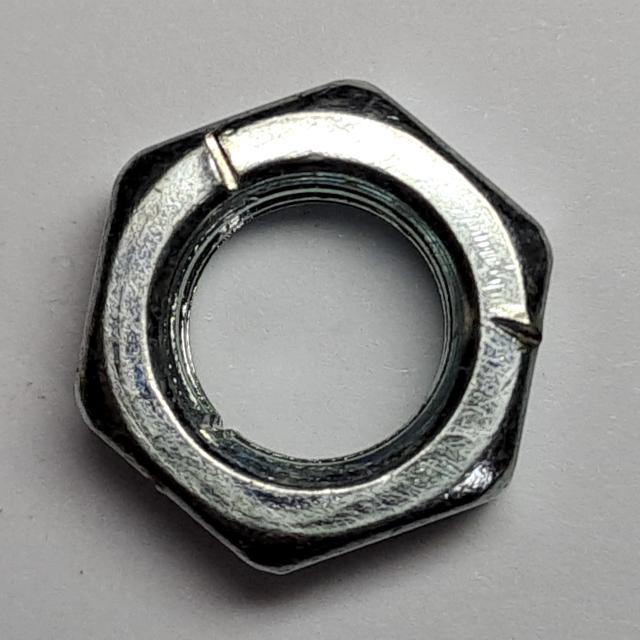Scratches: (64, 72, 561, 587)
